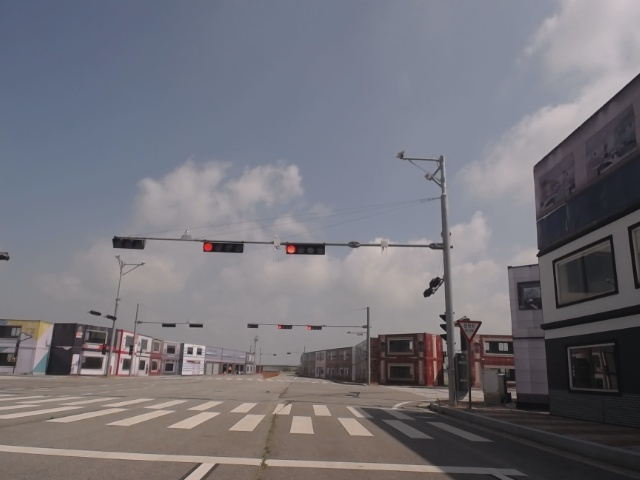red_4: (205, 242, 243, 252), (288, 244, 325, 254)
